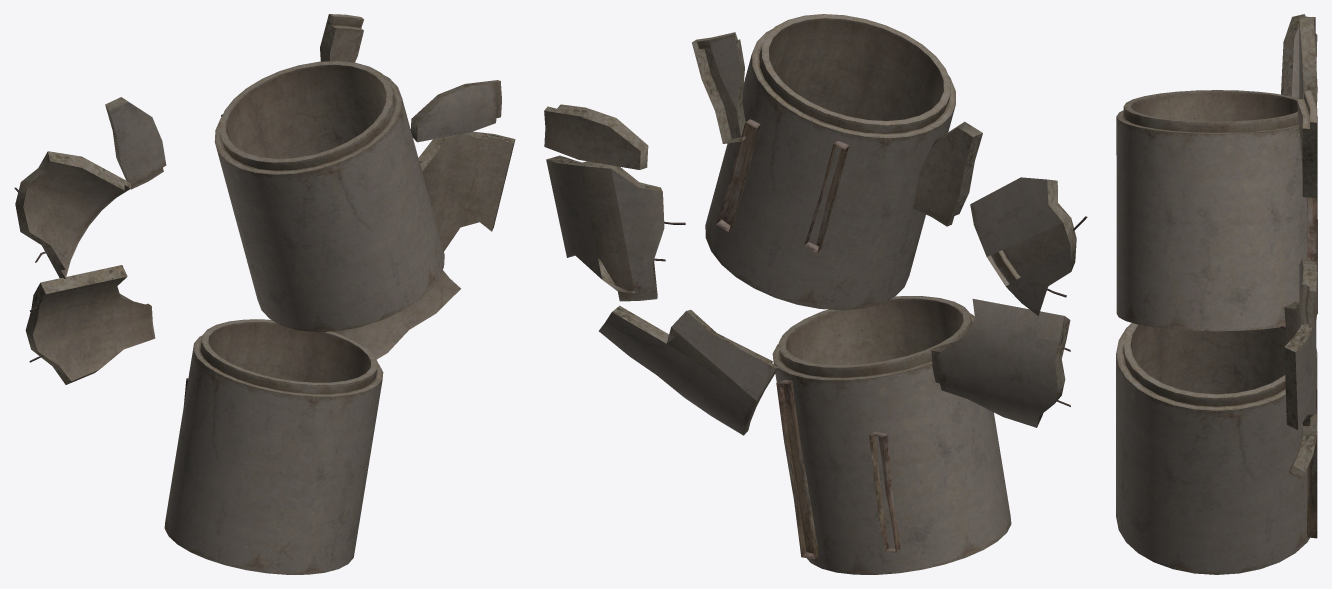
The model's file is hd_envAM_032_ConcreteRings02.glb.
The picture shows the model from 3 angles, left to right: view 1: azimuth 30°, elevation 25°; view 2: azimuth 150°, elevation 25°; view 3: azimuth 270°, elevation 25°; orthographic projection. The views are drawn at different scales.
Parts seen in each view (by area): view 1: set_0_group_1, set_0_group_0; view 2: set_0_group_1, set_0_group_0; view 3: set_0_group_1, set_0_group_0.
Boxes of the visible parts, x1,y1,x2,y2 form: set_0_group_1: (164, 61, 444, 574); set_0_group_0: (14, 14, 515, 384); set_0_group_1: (705, 14, 1011, 574); set_0_group_0: (544, 32, 1087, 435); set_0_group_1: (1116, 90, 1317, 574); set_0_group_0: (1280, 14, 1317, 479).
Size of the model in its own units: 6 by 5.52 by 2.01.
2 materials, 2 textured.
